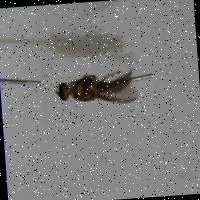Oriental-fruit-fly: (38, 50, 154, 126)
